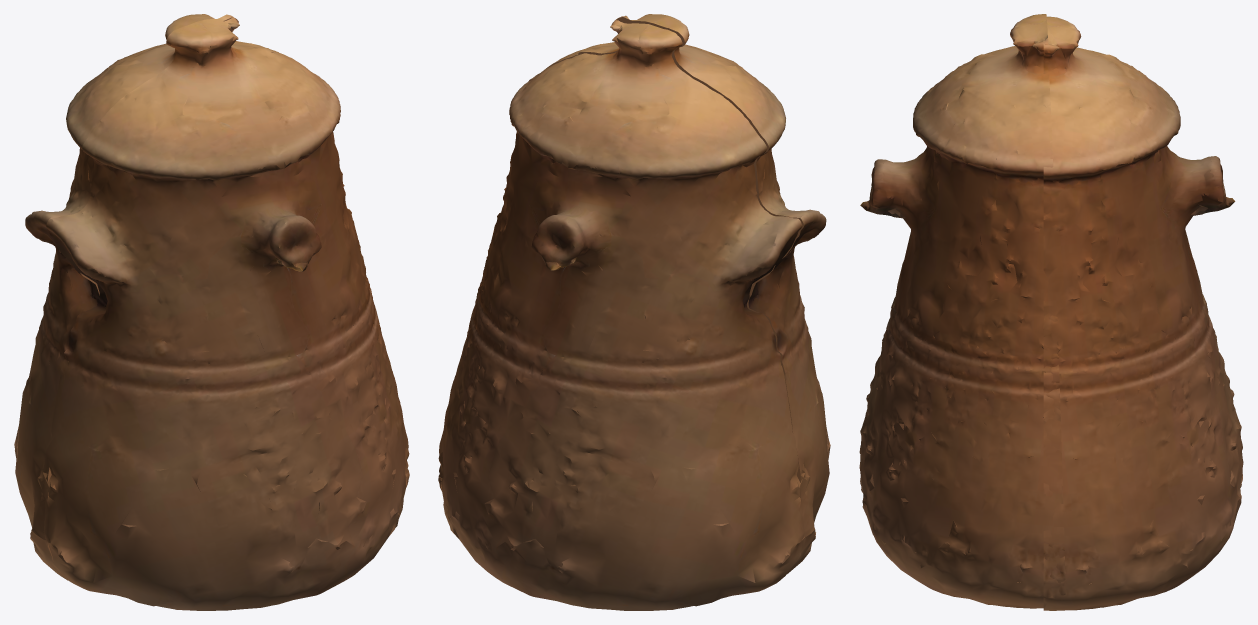
The model's file is PajareraLow.glb.
The picture shows the model from 3 angles, left to right: view 1: azimuth 30°, elevation 25°; view 2: azimuth 150°, elevation 25°; view 3: azimuth 270°, elevation 25°; orthographic projection. The views are drawn at different scales.
Parts seen in each view (by area): view 1: Pajarera; view 2: Pajarera; view 3: Pajarera.
Boxes of the visible parts, x1,y1,x2,y2 form: Pajarera: (14, 14, 409, 610); Pajarera: (438, 14, 830, 610); Pajarera: (859, 14, 1243, 610).
Bounding box in the file's own units: 0.1463 × 0.2151 × 0.145.
Materials: 1 (1 with a texture image).
